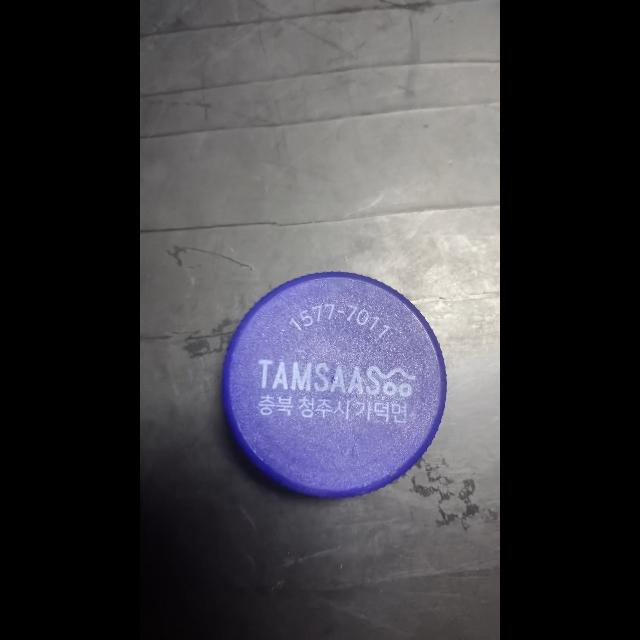plastic_bottle_cap: (215, 268, 458, 500)
